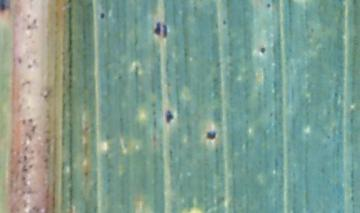tarspot: (206, 129, 217, 139), (1, 1, 10, 13), (165, 110, 173, 123), (154, 21, 161, 35), (162, 22, 167, 38), (99, 11, 106, 21), (265, 1, 272, 9), (260, 47, 267, 54), (222, 18, 226, 26)
